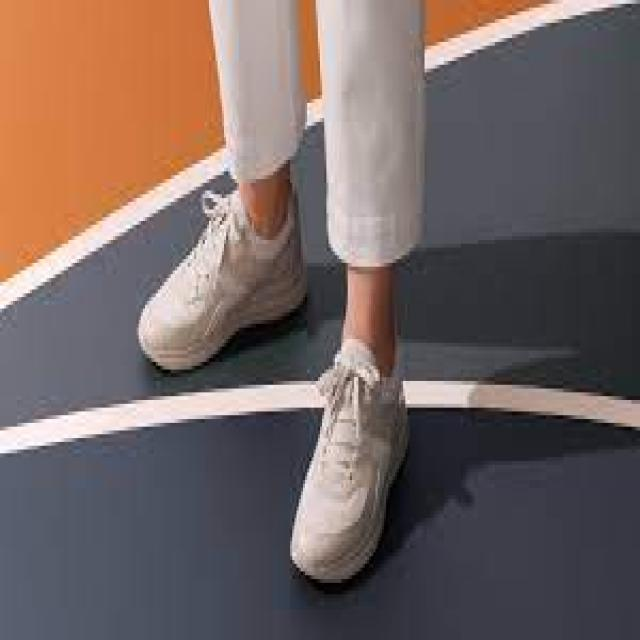shoe: (284, 336, 413, 595), (132, 188, 312, 372)
